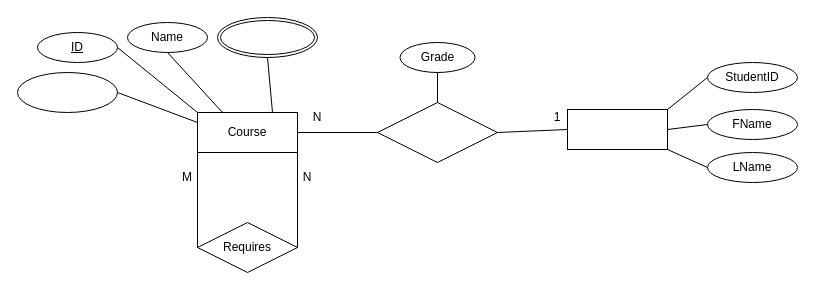
The diagram is 815 pixels wide and 290 high, and some of its shapes have lost their labels. Here are the shapes that lost their labels. From the top down, the centre of each, then its label:
point 267,37: Section
point 67,92: Number
point 437,132: Registers
point 617,129: Student
